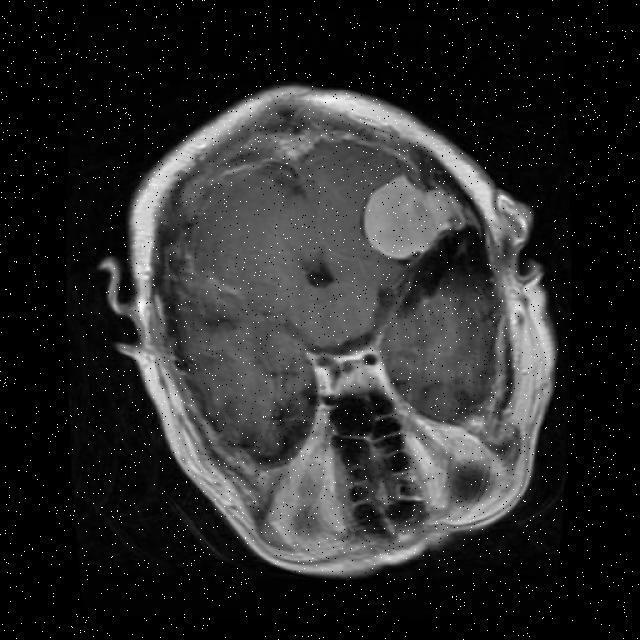Meningioma: (364, 176, 467, 259)
